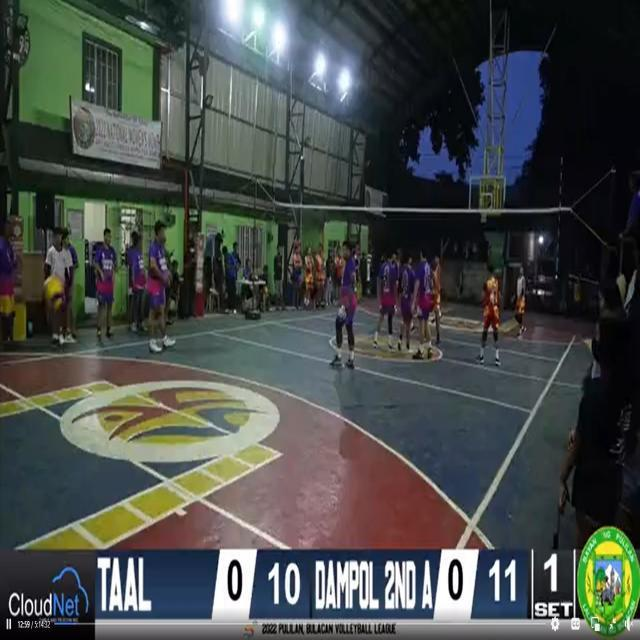volleyball: (42, 276, 64, 308)
